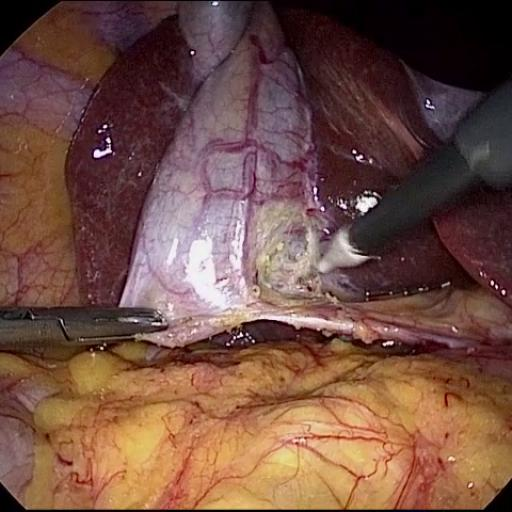Grasper: (1, 268, 189, 378)
Hook: (279, 209, 390, 304)
